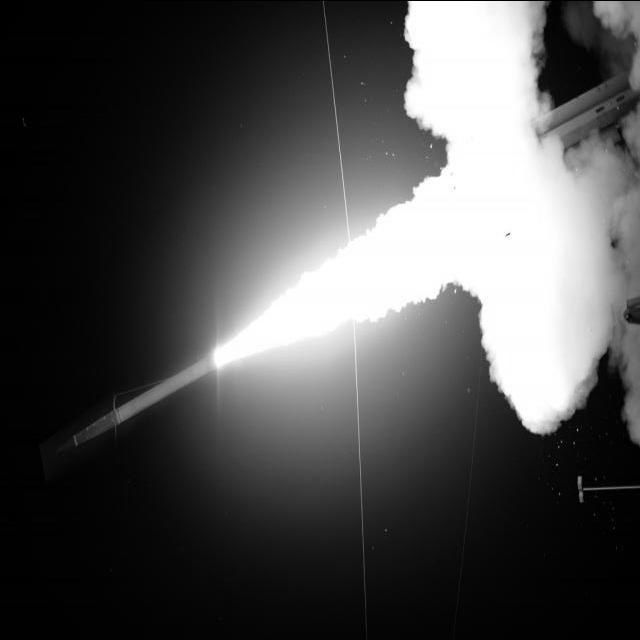missile: (34, 321, 255, 478)
